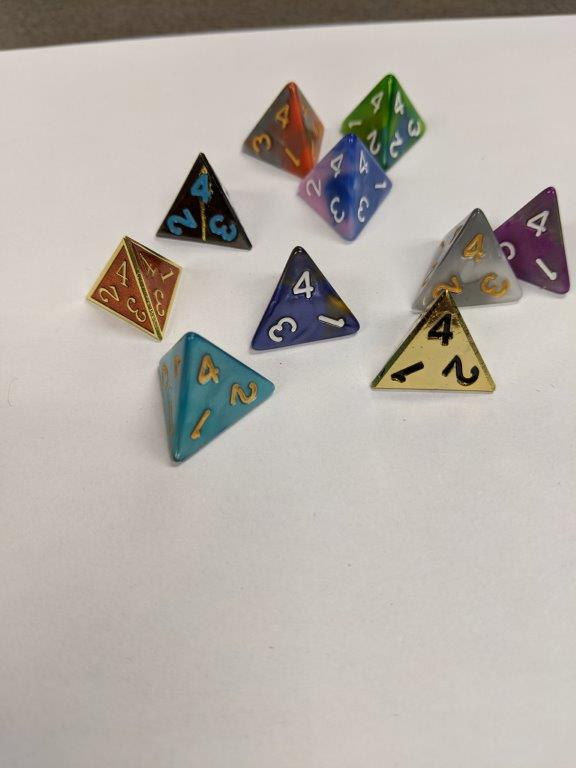d4-4: (155, 332, 278, 465), (368, 290, 499, 399), (252, 243, 365, 356), (293, 133, 397, 247), (411, 207, 524, 307), (155, 149, 257, 254), (87, 232, 182, 341), (490, 182, 573, 301), (340, 69, 429, 172), (245, 79, 324, 179)
